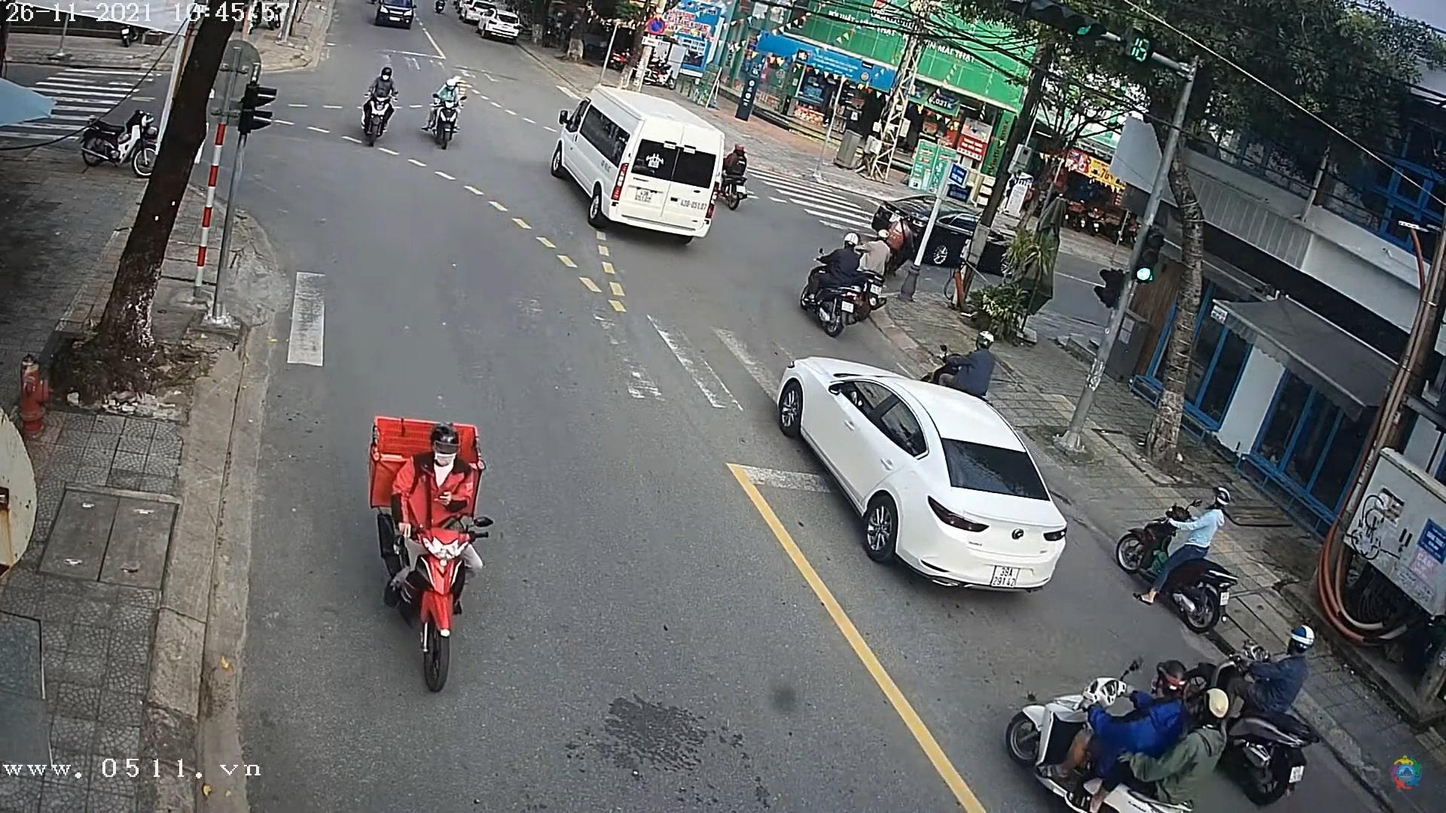car: (374, 3, 414, 29)
motorbike: (374, 501, 491, 696), (358, 85, 402, 152), (426, 84, 467, 153)
